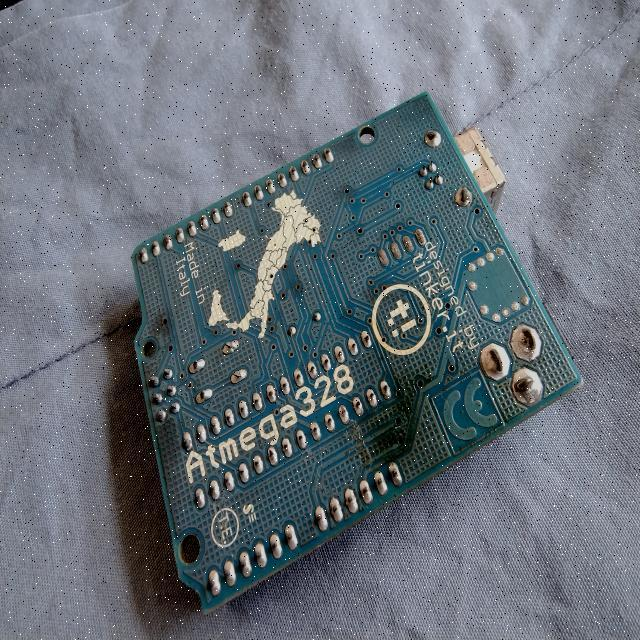arduino: (115, 83, 586, 613)
